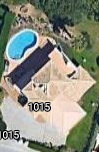pool: (9, 35, 41, 55)
